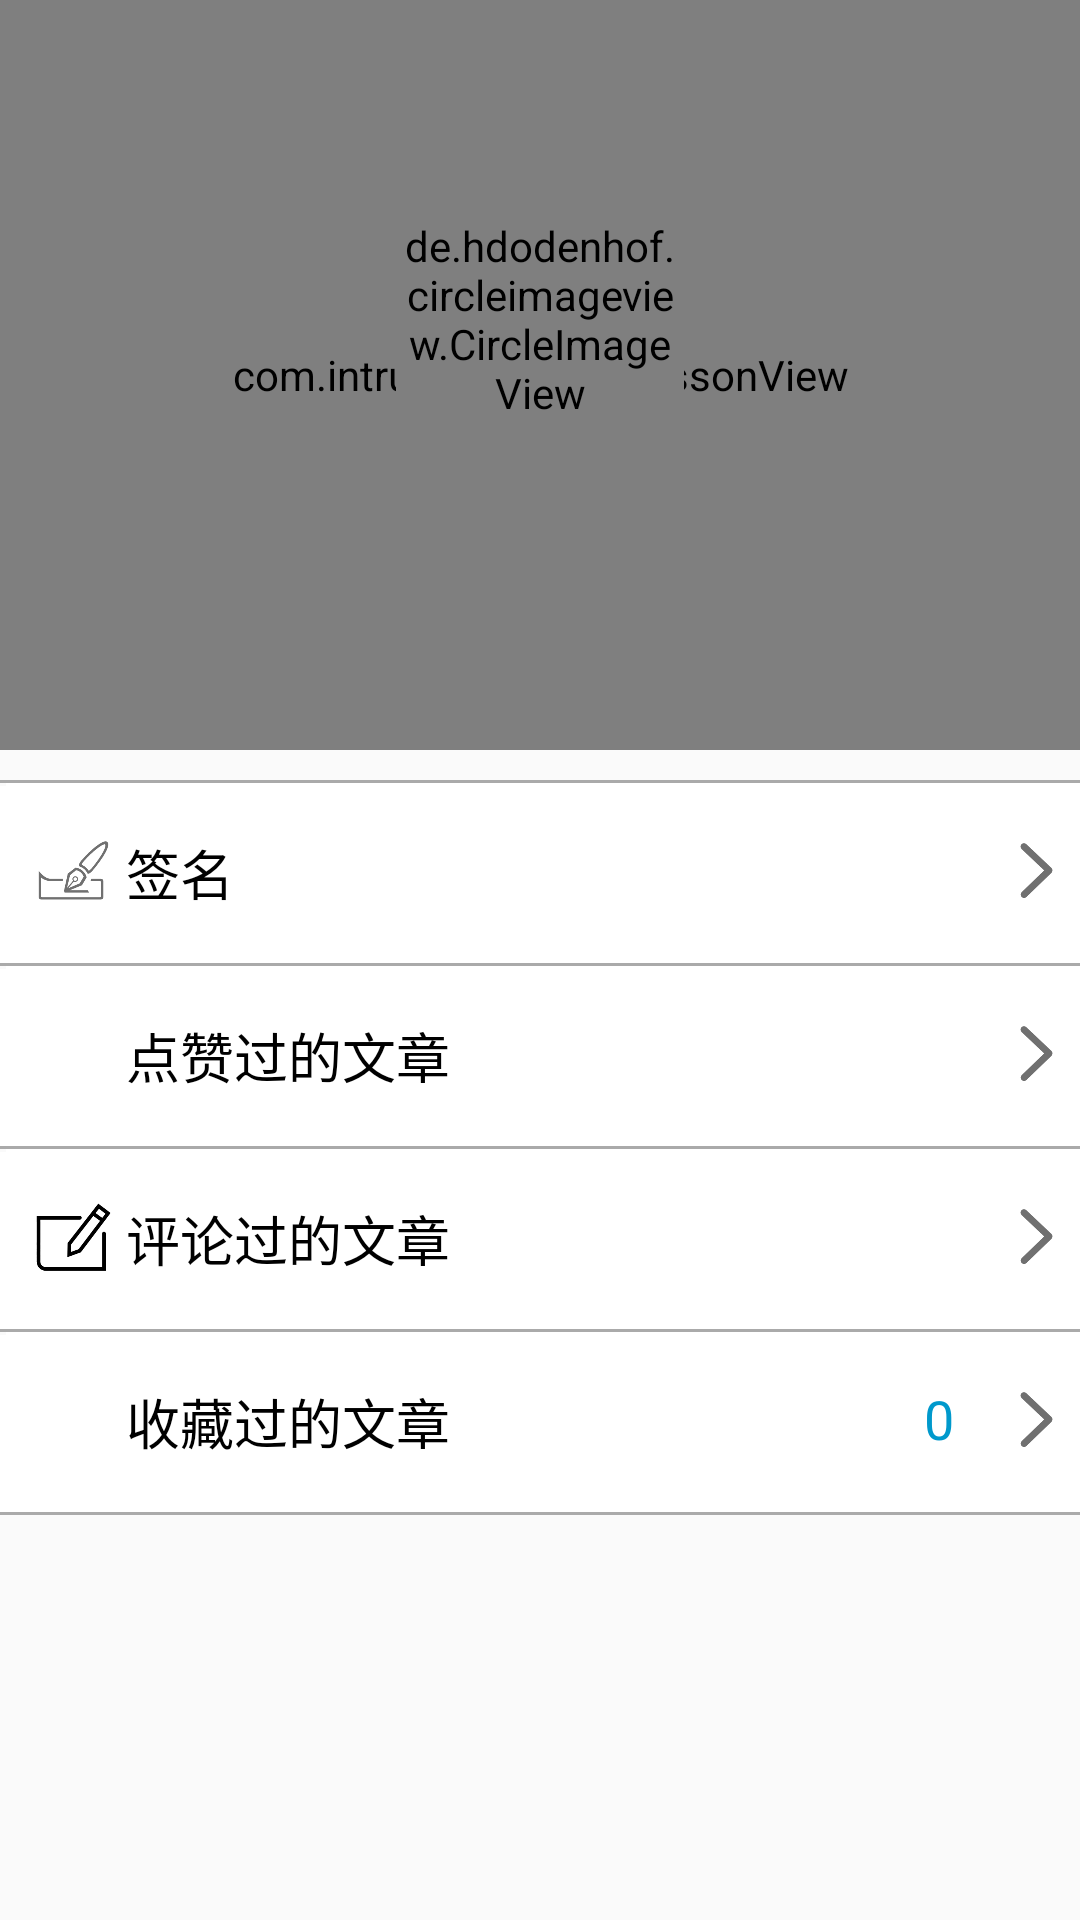

Named icons in this screenshot (1080x1920) and their centers, (x,y):
arrow right: (1036,870), (1036,1053), (1036,1236), (1036,1419)
edit: (73,1237)
